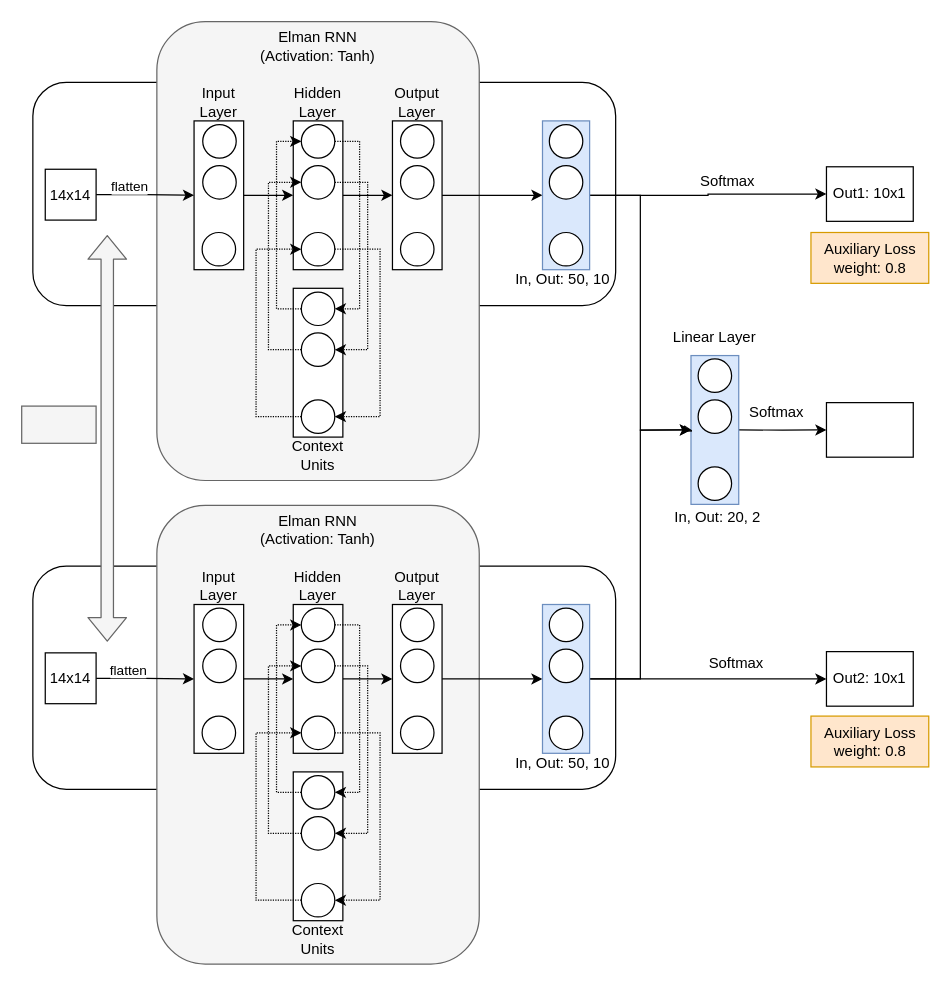
The diagram is 951 pixels wide and 986 high, and some of its shapes have lost their labels. Here are the shapes that lost their labels. From the top down, the box of each, then its label:
(20, 405, 96, 443): Shared Weights
(825, 401, 913, 457): Out: 2x1
